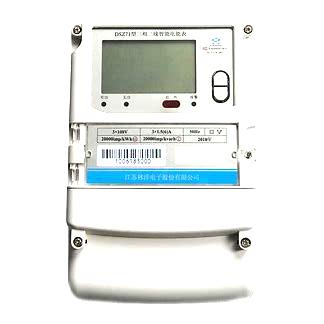digital: (67, 19, 253, 235)
